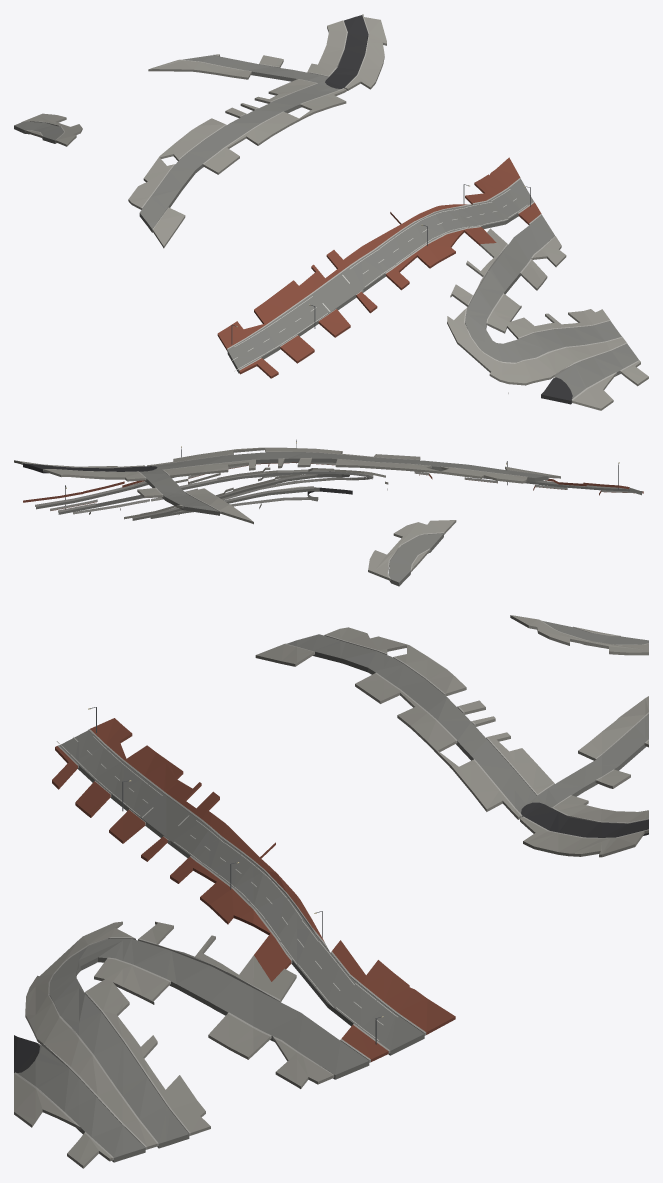
The picture shows the model from 3 angles, top to bottom: view 1: azimuth 30°, elevation 25°; view 2: azimuth 150°, elevation 25°; view 3: azimuth 270°, elevation 25°; orthographic projection. The views are drawn at different scales.
Size of the model in its own units: 149 by 74.81 by 146.
